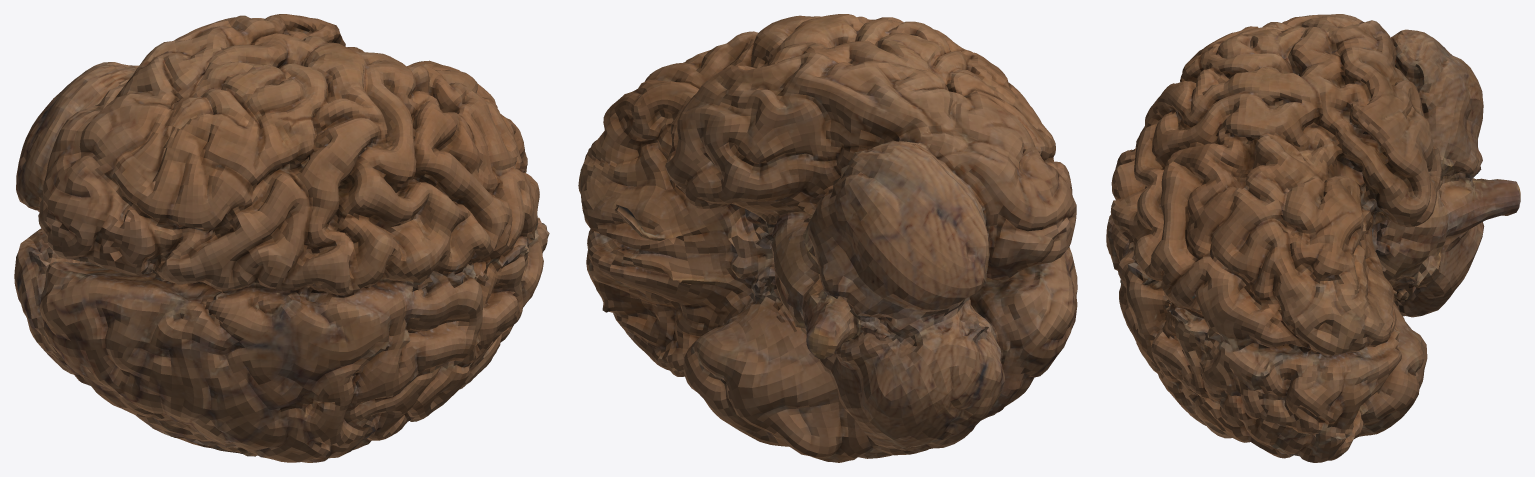
The model's file is FBX_Brain.fbx.
3 views of the same model, side by side, from view 1: azimuth 30°, elevation 25°; view 2: azimuth 150°, elevation 25°; view 3: azimuth 270°, elevation 25° (orthographic). The views are drawn at different scales.
Visible parts, largest first — view 1: brain_lowpoly; view 2: brain_lowpoly; view 3: brain_lowpoly.
Part boxes in pixels (box(x1,y1,x2,y2)): brain_lowpoly: box(14, 14, 549, 462); brain_lowpoly: box(578, 14, 1077, 462); brain_lowpoly: box(1106, 14, 1520, 462).
Bounding box in the file's own units: 3065 × 2501 × 2480.
